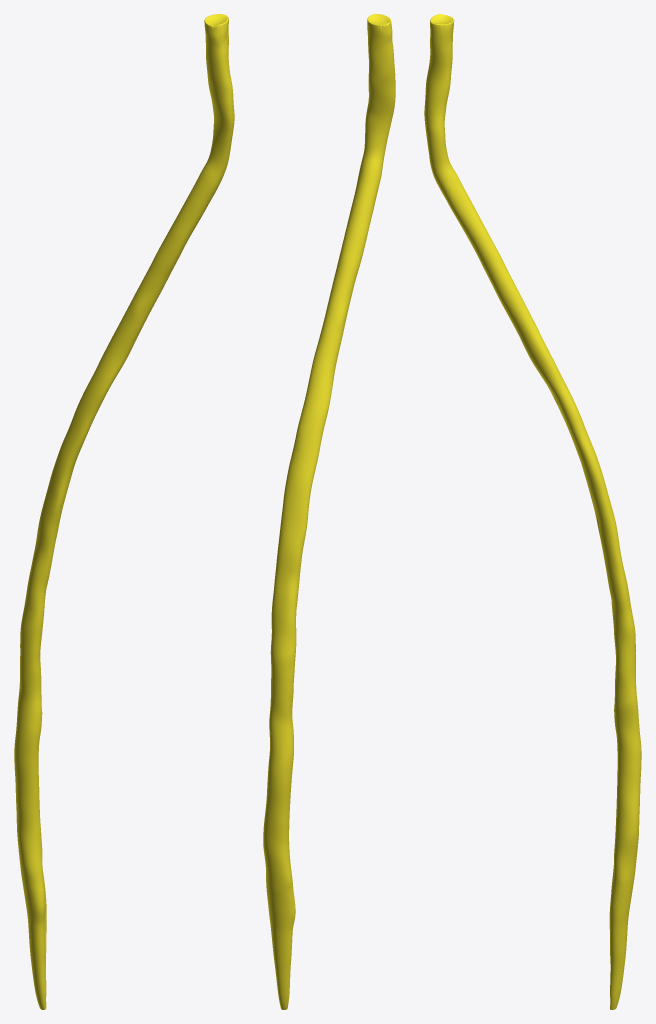
Rendered from vh_f_spinal_cord.glb.
3 views of the same model, side by side, from view 1: azimuth 90°, elevation 25°; view 2: azimuth 150°, elevation 25°; view 3: azimuth 270°, elevation 25° (orthographic). The views are drawn at different scales.
Visible parts, largest first — view 1: VH_F_sixth_thoracic_spinal_cord_segment, VH_F_ninth_thoracic_spinal_cord_segment, VH_F_tenth_thoracic_spinal_cord_segment, VH_F_fourth_thoracic_spinal_cord_segment, VH_F_third_thoracic_spinal_cord_segment, VH_F_seventh_thoracic_spinal_cord_segment, VH_F_fifth_thoracic_spinal_cord_segment, VH_F_first_thoracic_spinal_cord_segment, VH_F_twelfth_thoracic_spinal_cord_segment, VH_F_second_thoracic_spinal_cord_segment, VH_F_eigth_thoracic_spinal_cord_segment, VH_F_eleventh_thoracic_spinal_cord_segment (+9 smaller); view 2: VH_F_sixth_thoracic_spinal_cord_segment, VH_F_fourth_thoracic_spinal_cord_segment, VH_F_fifth_thoracic_spinal_cord_segment, VH_F_seventh_thoracic_spinal_cord_segment, VH_F_ninth_thoracic_spinal_cord_segment, VH_F_third_thoracic_spinal_cord_segment, VH_F_tenth_thoracic_spinal_cord_segment, VH_F_eigth_thoracic_spinal_cord_segment, VH_F_first_thoracic_spinal_cord_segment, VH_F_twelfth_thoracic_spinal_cord_segment, VH_F_second_thoracic_spinal_cord_segment, VH_F_C7_segment_of_cervical_spinal_cord (+12 smaller); view 3: VH_F_ninth_thoracic_spinal_cord_segment, VH_F_tenth_thoracic_spinal_cord_segment, VH_F_sixth_thoracic_spinal_cord_segment, VH_F_eleventh_thoracic_spinal_cord_segment, VH_F_twelfth_thoracic_spinal_cord_segment, VH_F_first_thoracic_spinal_cord_segment, VH_F_fourth_thoracic_spinal_cord_segment, VH_F_seventh_thoracic_spinal_cord_segment, VH_F_fifth_thoracic_spinal_cord_segment, VH_F_eigth_thoracic_spinal_cord_segment, VH_F_second_thoracic_spinal_cord_segment, VH_F_third_thoracic_spinal_cord_segment (+9 smaller).
Part boxes in pixels (<box>): VH_F_sixth_thoracic_spinal_cord_segment: <box>34,487,65,558</box>; VH_F_ninth_thoracic_spinal_cord_segment: <box>17,653,41,713</box>; VH_F_tenth_thoracic_spinal_cord_segment: <box>14,708,42,762</box>; VH_F_fourth_thoracic_spinal_cord_segment: <box>66,382,105,445</box>; VH_F_third_thoracic_spinal_cord_segment: <box>89,339,130,394</box>; VH_F_seventh_thoracic_spinal_cord_segment: <box>24,551,52,612</box>; VH_F_fifth_thoracic_spinal_cord_segment: <box>48,435,82,497</box>; VH_F_first_thoracic_spinal_cord_segment: <box>132,258,172,311</box>; VH_F_twelfth_thoracic_spinal_cord_segment: <box>16,798,41,844</box>; VH_F_second_thoracic_spinal_cord_segment: <box>111,300,150,350</box>; VH_F_eigth_thoracic_spinal_cord_segment: <box>20,606,44,657</box>; VH_F_eleventh_thoracic_spinal_cord_segment: <box>14,757,39,802</box>; VH_F_sixth_thoracic_spinal_cord_segment: <box>274,517,307,584</box>; VH_F_fourth_thoracic_spinal_cord_segment: <box>290,404,328,465</box>; VH_F_fifth_thoracic_spinal_cord_segment: <box>281,461,316,520</box>; VH_F_seventh_thoracic_spinal_cord_segment: <box>271,581,299,638</box>; VH_F_ninth_thoracic_spinal_cord_segment: <box>269,678,293,735</box>; VH_F_third_thoracic_spinal_cord_segment: <box>304,355,336,408</box>; VH_F_tenth_thoracic_spinal_cord_segment: <box>267,731,293,782</box>; VH_F_eigth_thoracic_spinal_cord_segment: <box>270,634,296,682</box>; VH_F_first_thoracic_spinal_cord_segment: <box>326,264,358,316</box>; VH_F_twelfth_thoracic_spinal_cord_segment: <box>263,817,289,859</box>; VH_F_second_thoracic_spinal_cord_segment: <box>314,312,346,360</box>; VH_F_C7_segment_of_cervical_spinal_cord: <box>346,187,377,232</box>; VH_F_ninth_thoracic_spinal_cord_segment: <box>614,654,638,713</box>; VH_F_tenth_thoracic_spinal_cord_segment: <box>614,708,641,762</box>; VH_F_sixth_thoracic_spinal_cord_segment: <box>590,494,621,561</box>; VH_F_eleventh_thoracic_spinal_cord_segment: <box>617,756,641,805</box>; VH_F_twelfth_thoracic_spinal_cord_segment: <box>615,799,639,848</box>; VH_F_first_thoracic_spinal_cord_segment: <box>486,262,525,314</box>; VH_F_fourth_thoracic_spinal_cord_segment: <box>551,388,590,448</box>; VH_F_seventh_thoracic_spinal_cord_segment: <box>604,559,631,613</box>; VH_F_fifth_thoracic_spinal_cord_segment: <box>575,441,607,500</box>; VH_F_eigth_thoracic_spinal_cord_segment: <box>612,607,635,658</box>; VH_F_second_thoracic_spinal_cord_segment: <box>507,305,545,353</box>; VH_F_third_thoracic_spinal_cord_segment: <box>528,345,567,395</box>.
Bounding box in the file's own units: 0.0179 × 0.4088 × 0.0819.
